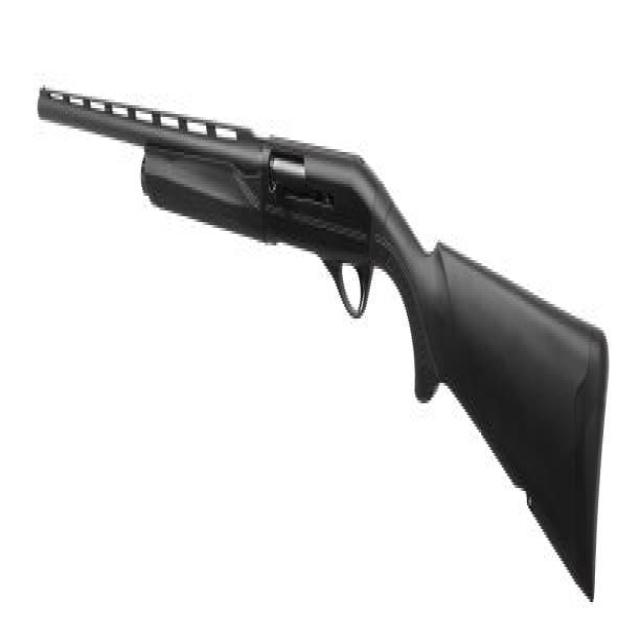rifle: (33, 66, 615, 616)
